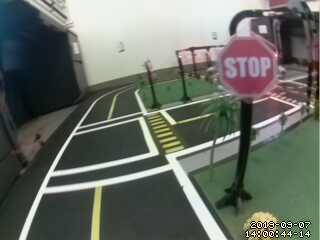Stop_Sign: (215, 30, 285, 100)
